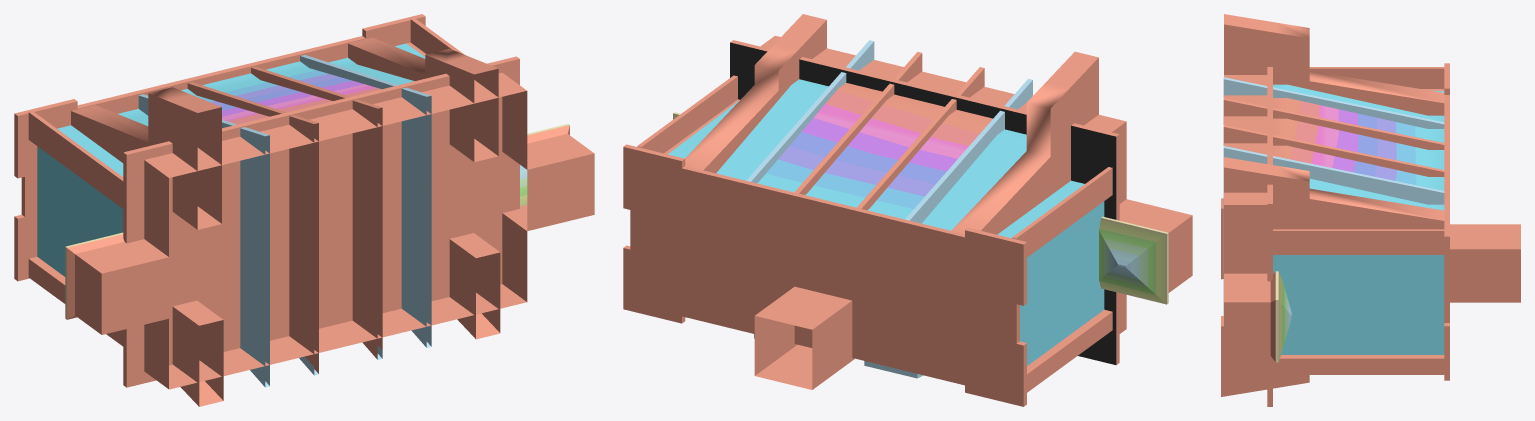
File: MantraCrownTowersCollider.fbx
3 views of the same model, side by side, from view 1: azimuth 30°, elevation 25°; view 2: azimuth 150°, elevation 25°; view 3: azimuth 270°, elevation 25° (orthographic). The views are drawn at different scales.
Visible parts, largest first — view 1: Cube.005; view 2: Cube.005; view 3: Cube.005.
Part boxes in pixels (left/top/right/bottom): Cube.005: left=14, top=14, right=594, bottom=406; Cube.005: left=623, top=14, right=1192, bottom=406; Cube.005: left=1221, top=14, right=1520, bottom=406.
Size of the model in its own units: 85.73 by 47.69 by 50.82.
